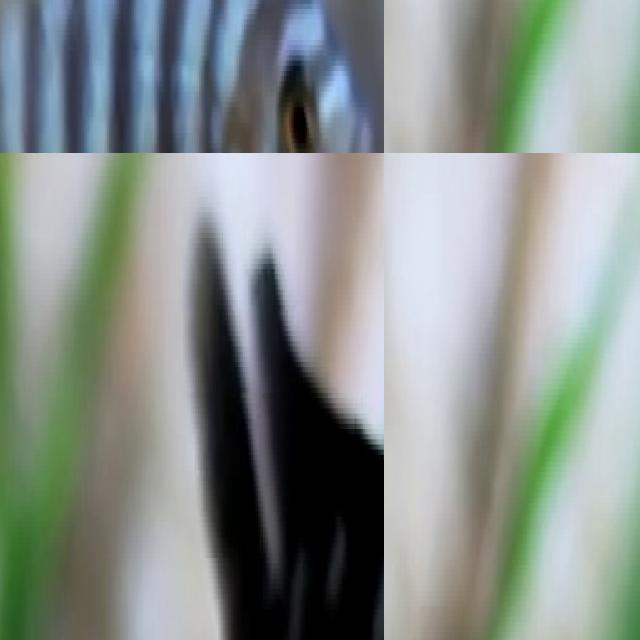fish: (168, 153, 384, 640), (0, 0, 384, 153)
